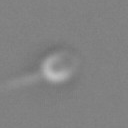normal: (1, 68, 40, 96)
